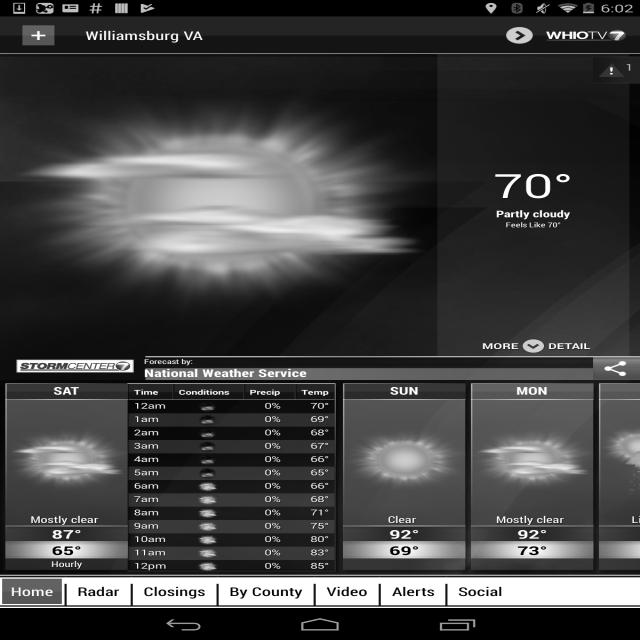ImageButton: (9, 17, 68, 54)
ImageView: (0, 54, 437, 349), (144, 356, 640, 386), (5, 400, 128, 519), (343, 400, 466, 519), (471, 400, 594, 519), (599, 400, 640, 519), (16, 350, 144, 383), (546, 26, 626, 46), (593, 357, 640, 380), (176, 413, 238, 427), (176, 453, 238, 467), (176, 493, 238, 507), (176, 533, 238, 547), (176, 400, 238, 413), (176, 427, 238, 440), (176, 440, 238, 453), (176, 467, 238, 480), (176, 480, 238, 493), (176, 507, 238, 520), (176, 520, 238, 533), (176, 547, 238, 560), (176, 560, 238, 573), (504, 26, 536, 46), (598, 59, 625, 81), (521, 338, 546, 354), (238, 384, 250, 399), (290, 384, 301, 399), (168, 384, 178, 399), (64, 575, 67, 608), (130, 575, 133, 608), (216, 575, 219, 608), (313, 575, 316, 608), (378, 575, 381, 608), (445, 575, 447, 608)
TextView: (493, 163, 573, 207), (219, 575, 313, 608), (133, 575, 216, 608), (144, 366, 307, 380), (448, 575, 513, 608), (0, 575, 64, 608), (381, 575, 445, 608), (67, 575, 130, 608), (316, 575, 378, 608), (85, 27, 204, 43), (496, 207, 571, 220), (548, 341, 630, 352), (496, 513, 564, 526), (438, 341, 518, 352), (31, 513, 98, 526), (179, 387, 238, 397), (281, 546, 329, 558), (516, 383, 548, 400), (281, 400, 329, 411), (281, 427, 329, 438), (281, 440, 329, 451), (281, 467, 329, 478), (281, 480, 329, 491), (281, 507, 329, 518), (281, 520, 329, 531), (281, 560, 329, 571), (238, 546, 281, 558), (134, 546, 176, 558), (506, 220, 561, 229), (390, 383, 419, 400), (52, 526, 82, 542), (52, 542, 82, 558), (281, 414, 329, 424), (281, 454, 329, 464), (281, 494, 329, 504), (281, 534, 329, 544), (390, 526, 420, 542), (390, 542, 420, 558), (518, 526, 548, 542), (518, 542, 548, 558), (238, 400, 281, 411), (238, 427, 281, 438), (238, 440, 281, 451), (238, 467, 281, 478), (238, 480, 281, 491), (238, 507, 281, 518), (238, 520, 281, 531), (238, 560, 281, 571), (134, 400, 176, 411), (134, 427, 176, 438), (134, 440, 176, 451), (134, 467, 176, 478), (134, 480, 176, 491), (134, 507, 176, 518), (134, 520, 176, 531), (134, 560, 176, 571), (54, 383, 80, 400), (144, 357, 193, 366), (238, 414, 281, 424), (238, 454, 281, 464), (238, 494, 281, 504), (238, 534, 281, 544), (134, 414, 176, 424), (134, 454, 176, 464), (134, 494, 176, 504), (134, 534, 176, 544), (250, 387, 290, 397), (51, 558, 82, 570), (388, 513, 416, 526), (134, 387, 167, 397), (301, 387, 329, 397), (631, 513, 640, 526), (625, 61, 634, 73)
